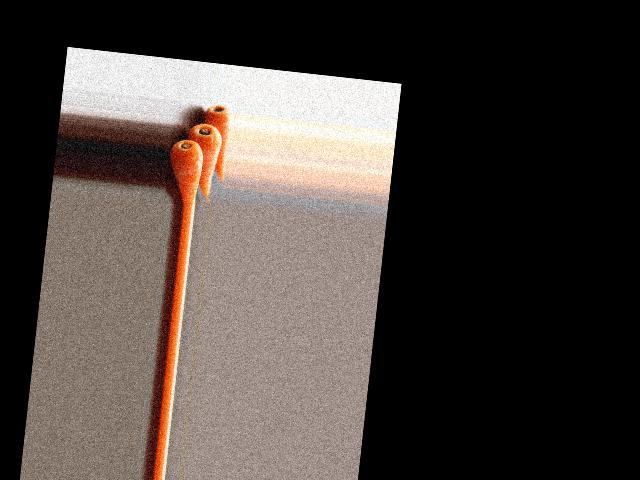carrot: (194, 113, 230, 181)
